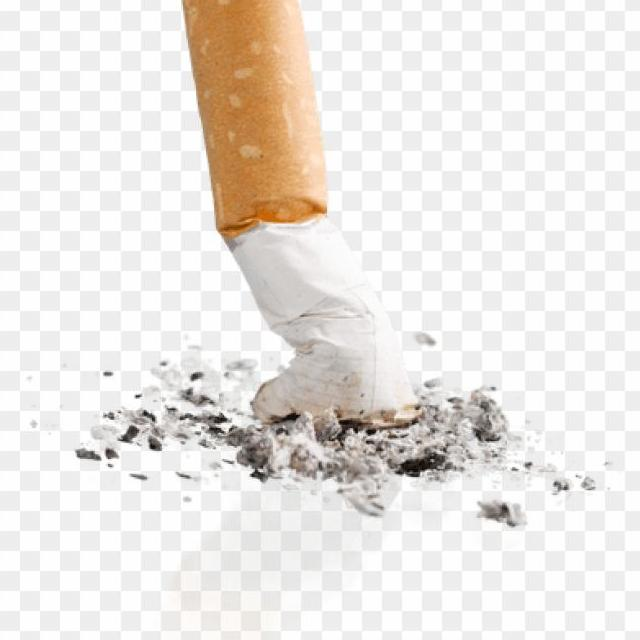Cigarette Butt: (167, 0, 432, 434)
